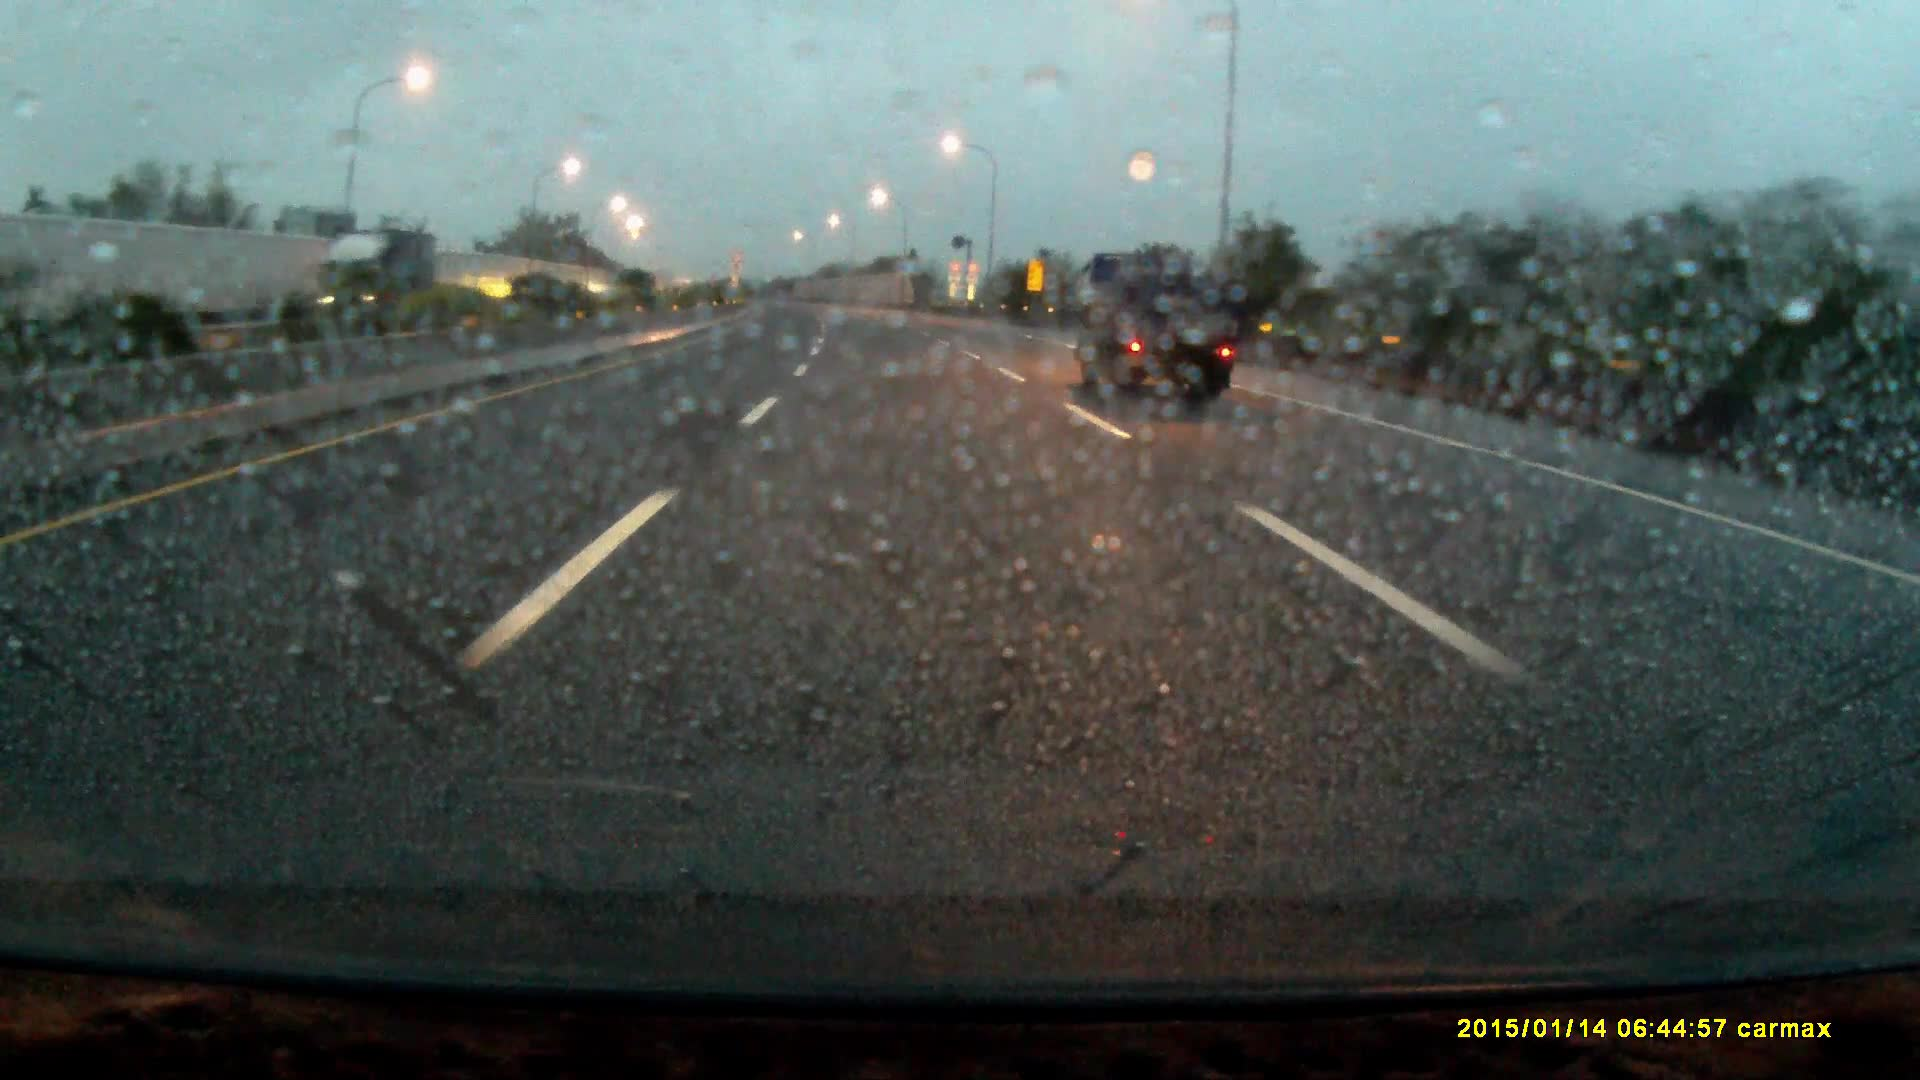vehicle: (1069, 249, 1230, 405), (311, 227, 435, 334)
